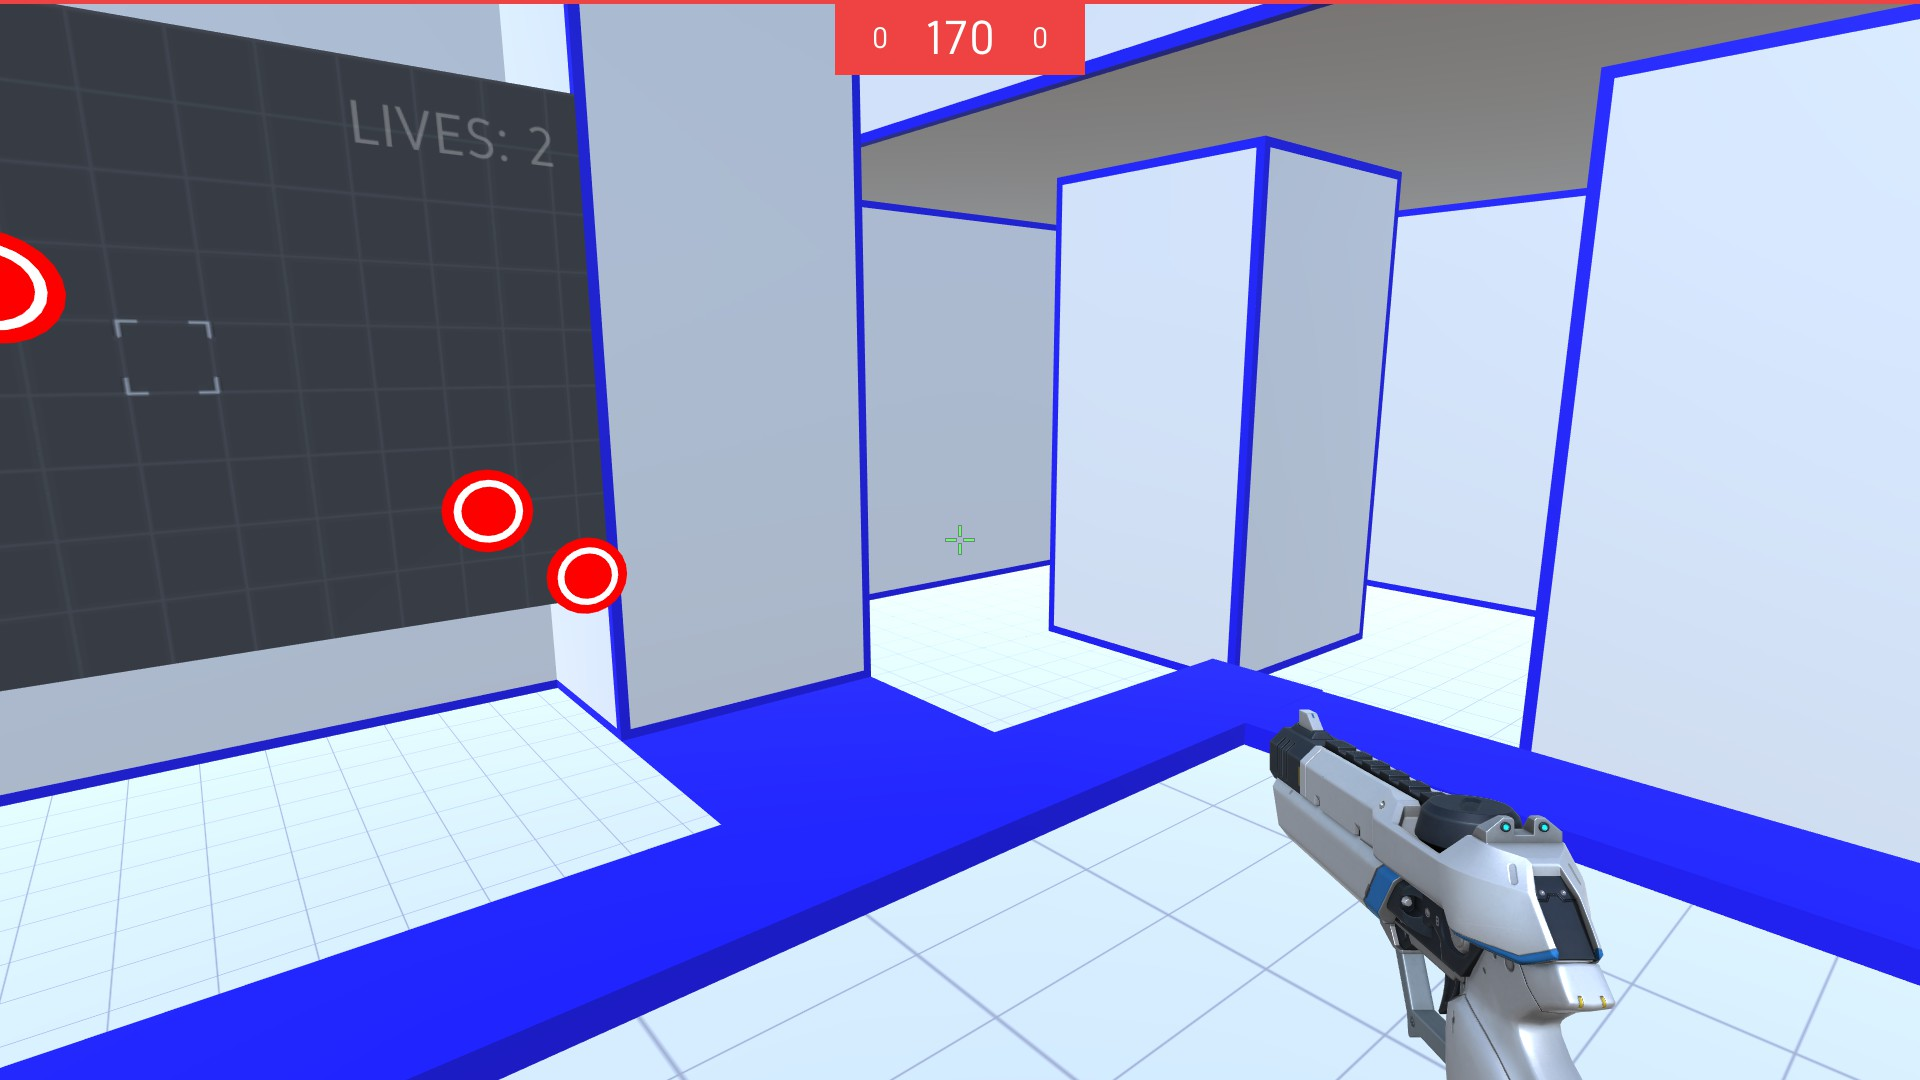target: (1, 232, 76, 349), (442, 465, 533, 553), (546, 533, 626, 615)
